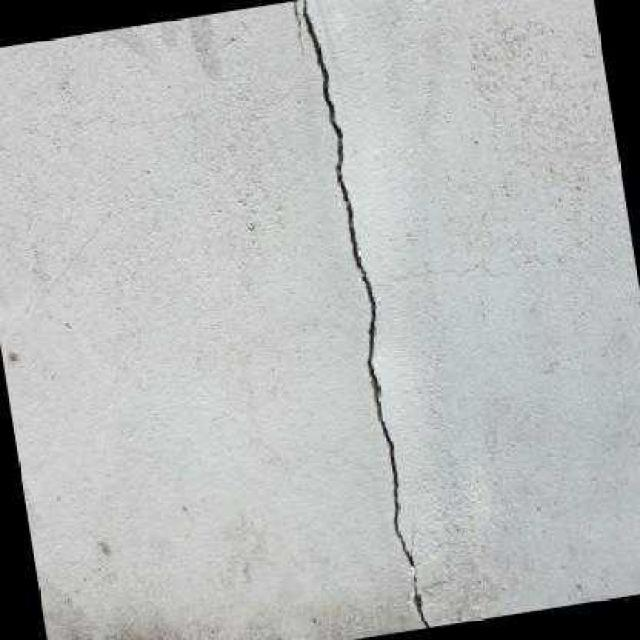D00: (302, 0, 430, 627)
